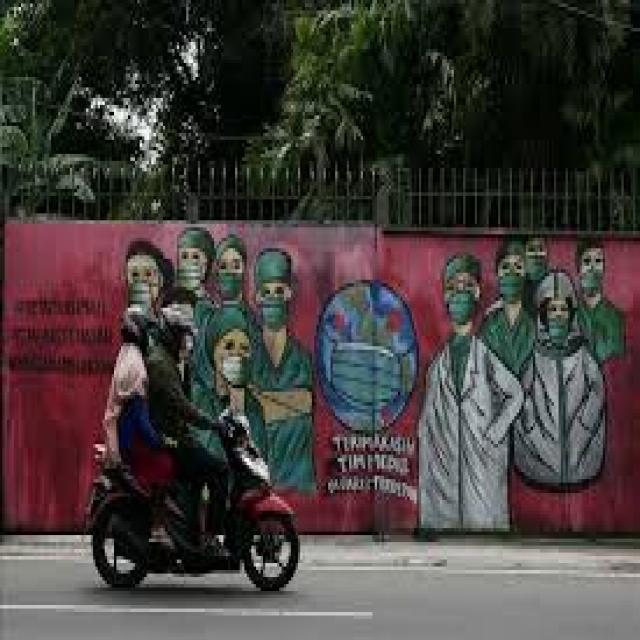-: (422, 235, 626, 540), (124, 228, 314, 501), (318, 281, 420, 506), (5, 292, 119, 393)
